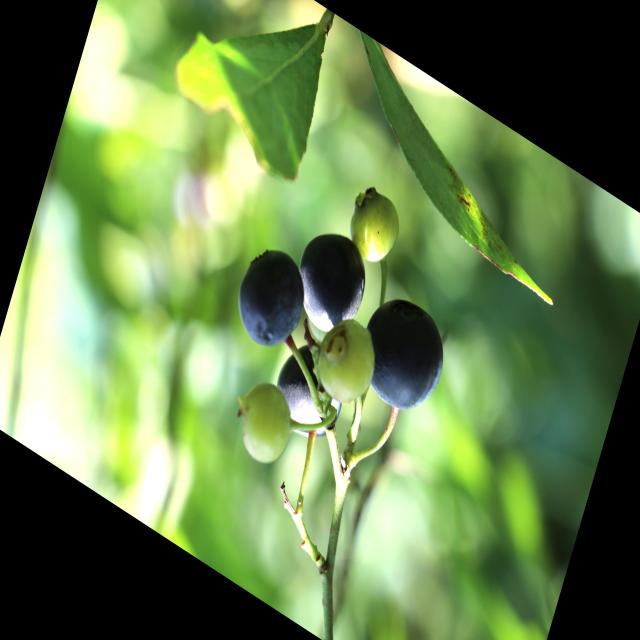blueberry: (350, 280, 454, 429), (285, 213, 376, 348), (227, 233, 315, 366), (272, 338, 350, 450)
blueberry-unripe: (308, 308, 382, 416), (230, 370, 302, 477), (339, 175, 408, 273)
